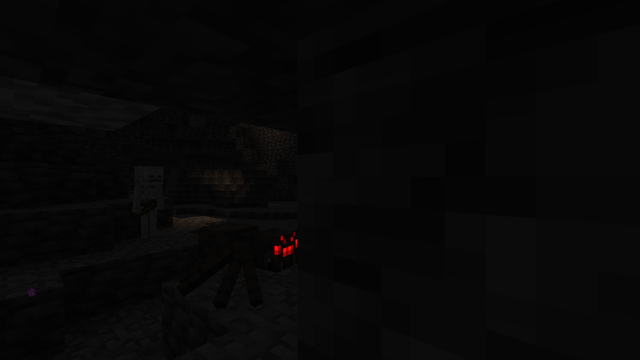araignees: (190, 215, 285, 310)
squelettes: (133, 166, 164, 239)
